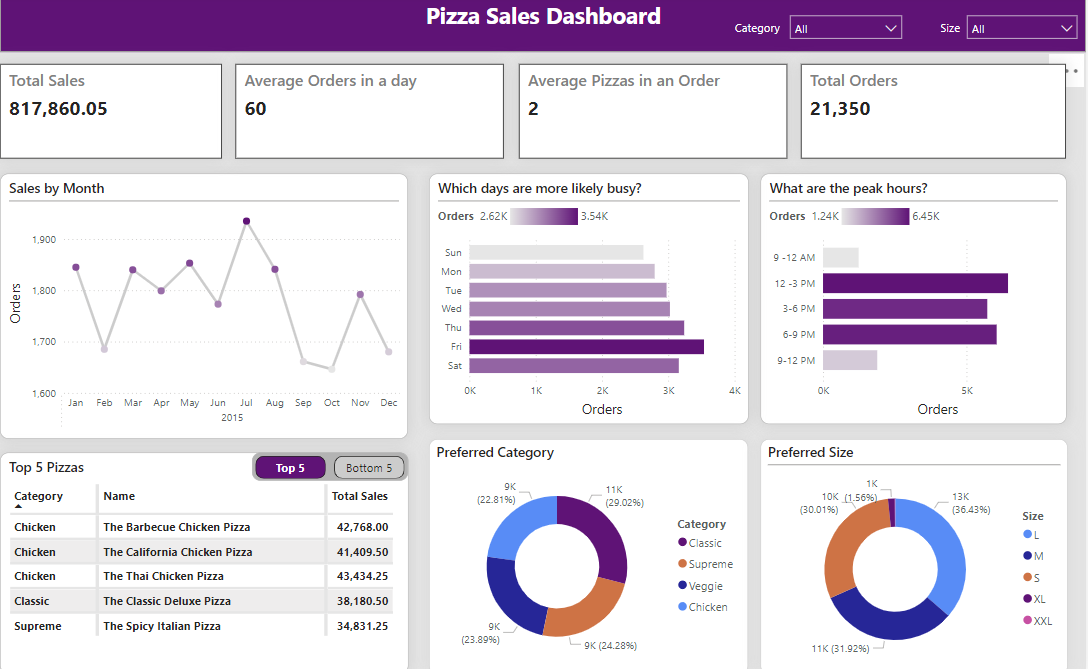

This screenshot's page, from the dashboard's own definition file:
{"tool":"powerbi","page":{"name":"Page 2","canvas":[1280,800],"ordinal":0},"visuals":[{"type":"textbox","box":[0,0,1280.4,67.1],"z":0},{"type":"slicer","fields":{"Values":["Pizza Types.Category"]},"box":[919.3,15,151.7,66.7],"z":0,"group":"g2"},{"type":"slicer","fields":{"Values":["Pizzas.Size"]},"box":[1130,15,150,45],"z":0,"group":"g1"},{"type":"shape","box":[858.3,0,66.7,75],"z":1000,"group":"g2"},{"type":"shape","title":"Size","box":[1089.5,0,61.7,75],"z":1000,"group":"g1"},{"type":"clusteredBarChart","title":"What are the peak hours?","fields":{"Category":["Orders.Time slot"],"Y":["All Measures.Orders"]},"box":[896,210.3,360.5,295.1],"z":1000},{"type":"clusteredBarChart","title":"Which days are more likely busy?","fields":{"Y":["All Measures.Orders"],"Category":["Date Table.Day"]},"box":[505.5,210.3,376.4,295.1],"z":2000},{"type":"lineChart","title":"Sales by Month","fields":{"Y":["All Measures.Orders"],"Category":["Date Table.Year","Date Table.Month"]},"box":[0,210.3,480.7,312.8],"z":3000},{"type":"donutChart","title":"Preferred Category","fields":{"Category":["Pizza Types.Category"],"Y":["All Measures.Orders"]},"box":[505.1,522.7,376.2,277.3],"z":4000},{"type":"donutChart","title":"Preferred Size","fields":{"Y":["All Measures.Orders"],"Category":["Pizzas.Size"]},"box":[895.4,522.7,362,277.3],"z":5000},{"type":"tableEx","title":"Top 5 Pizzas","fields":{"Values":["Pizza Types.Category","Pizza Types.Name","All Measures.Total Sales"]},"box":[0,538.9,481.3,260.5],"z":6000},{"type":"bookmarkNavigator","box":[296.9,539,183.8,33.6],"z":8000},{"type":"multiRowCard","title":"Total Sales","fields":{"Values":["All Measures.Total Sales"]},"box":[0,81,261.3,111.4],"z":9000},{"type":"multiRowCard","title":"Average Orders in a day","fields":{"Values":["All Measures.Avg orders in a day"]},"box":[278.1,81,315.9,111.4],"z":10000},{"type":"multiRowCard","title":"Average Pizzas in an Order","fields":{"Values":["All Measures.Avg Pizzas in a order"]},"box":[611,81,315.9,111.4],"z":11000},{"type":"multiRowCard","title":"Total Orders","fields":{"Values":["All Measures.Orders"]},"box":[943.8,81,311.9,111.4],"z":12000},{"type":"group","id":"g1","title":"Size","box":[1089.5,0,190.5,75],"z":13000},{"type":"group","id":"g2","title":"Category","box":[858.3,0,213.3,81.7],"z":14000}]}

Visuals, with their boxes in screenshot pixels (x1, y1, x2, y2), scaled from the page's 1280x800 canvas onto the 1088x669 screenshot:
textbox: <box>0,0,1087,56</box>
slicer - Pizza Types.Category: <box>781,13,910,68</box>
slicer - Pizzas.Size: <box>960,13,1087,50</box>
shape: <box>730,0,786,63</box>
"Size" shape: <box>926,0,979,63</box>
"What are the peak hours?" clusteredBarChart: <box>762,176,1068,423</box>
"Which days are more likely busy?" clusteredBarChart: <box>430,176,750,423</box>
"Sales by Month" lineChart: <box>0,176,409,437</box>
"Preferred Category" donutChart: <box>429,437,749,668</box>
"Preferred Size" donutChart: <box>761,437,1069,668</box>
"Top 5 Pizzas" tableEx: <box>0,451,409,668</box>
bookmarkNavigator: <box>252,451,409,479</box>
"Total Sales" multiRowCard: <box>0,68,222,161</box>
"Average Orders in a day" multiRowCard: <box>236,68,505,161</box>
"Average Pizzas in an Order" multiRowCard: <box>519,68,788,161</box>
"Total Orders" multiRowCard: <box>802,68,1067,161</box>
"Size" group: <box>926,0,1087,63</box>
"Category" group: <box>730,0,911,68</box>
